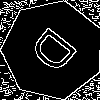D: (27, 25, 87, 82)
